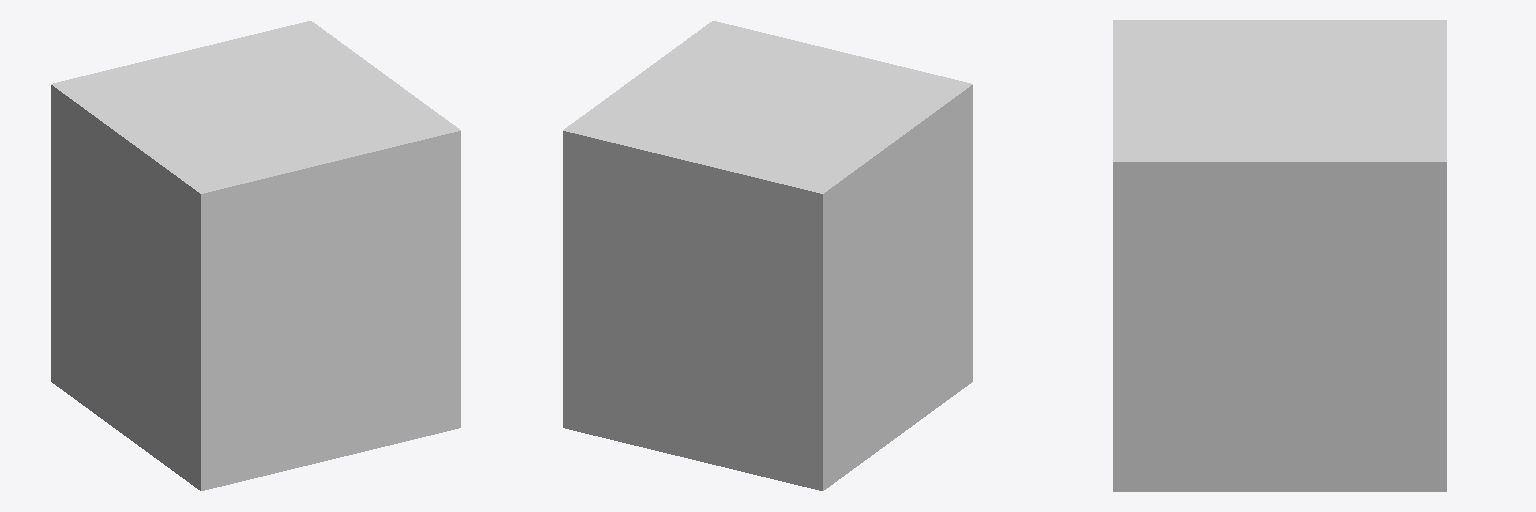
robot.urdf — meta_quest_boxes:
<?xml version="1.0" ?>
<robot name="meta_quest_boxes" version="1.0">
  <link name="meta_quest_boxes">
    <inertial>
      <origin xyz="0.0 0.0 0.11999999731779099" rpy="0.0 0.0 0.0"/>
      <mass value="6.0"/>
      <inertia ixx="0.05299999937415123" ixy="0.0" ixz="0.0" iyy="0.05299999937415123" iyz="0.0" izz="0.04839999973773956"/>
    </inertial>
    <visual name="meta_quest_boxes_geom">
      <origin xyz="0.0 0.0 0.11999999731779099" rpy="0.0 0.0 0.0"/>
      <geometry>
        <box size="0.2199999988079071 0.2199999988079071 0.23999999463558197"/>
      </geometry>
      <material name="white">
        <color rgba="0.9 0.9 0.9 1.0"/>
      </material>
    </visual>
  </link>
</robot>

--- Render facts (derived) ---
Views: 3 orthographic renders of the robot side by side, from view 1: azimuth 30°, elevation 25°; view 2: azimuth 150°, elevation 25°; view 3: azimuth 270°, elevation 25°.
Robot: meta_quest_boxes — 1 links, 0 joints (none); root link meta_quest_boxes; default pose: every joint at zero.
Links seen in each view (by area): view 1: meta_quest_boxes; view 2: meta_quest_boxes; view 3: meta_quest_boxes.
Link boxes in pixels (box(x1,y1,x2,y2)): meta_quest_boxes: box(51, 21, 460, 490); meta_quest_boxes: box(563, 21, 972, 490); meta_quest_boxes: box(1113, 20, 1446, 491).
Bounding box of the posed robot: 0.22 × 0.22 × 0.24 m (x, y, z).
Geometry: primitives only (box / cylinder / sphere), no mesh files.